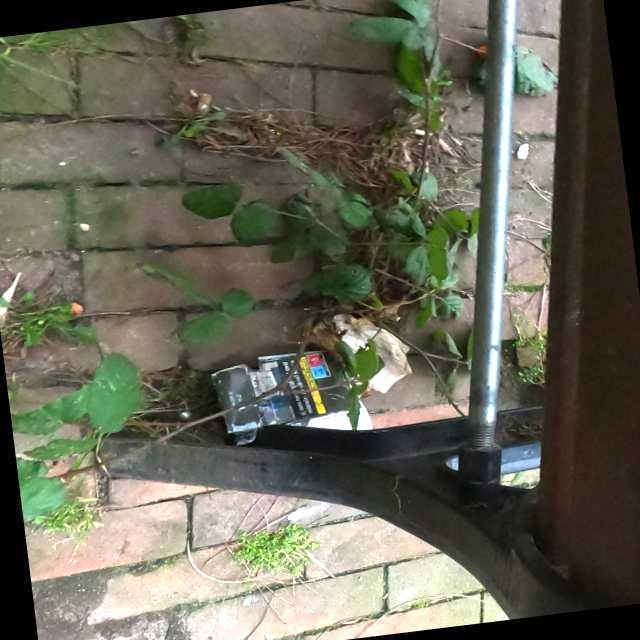Paper: (205, 347, 372, 449)
